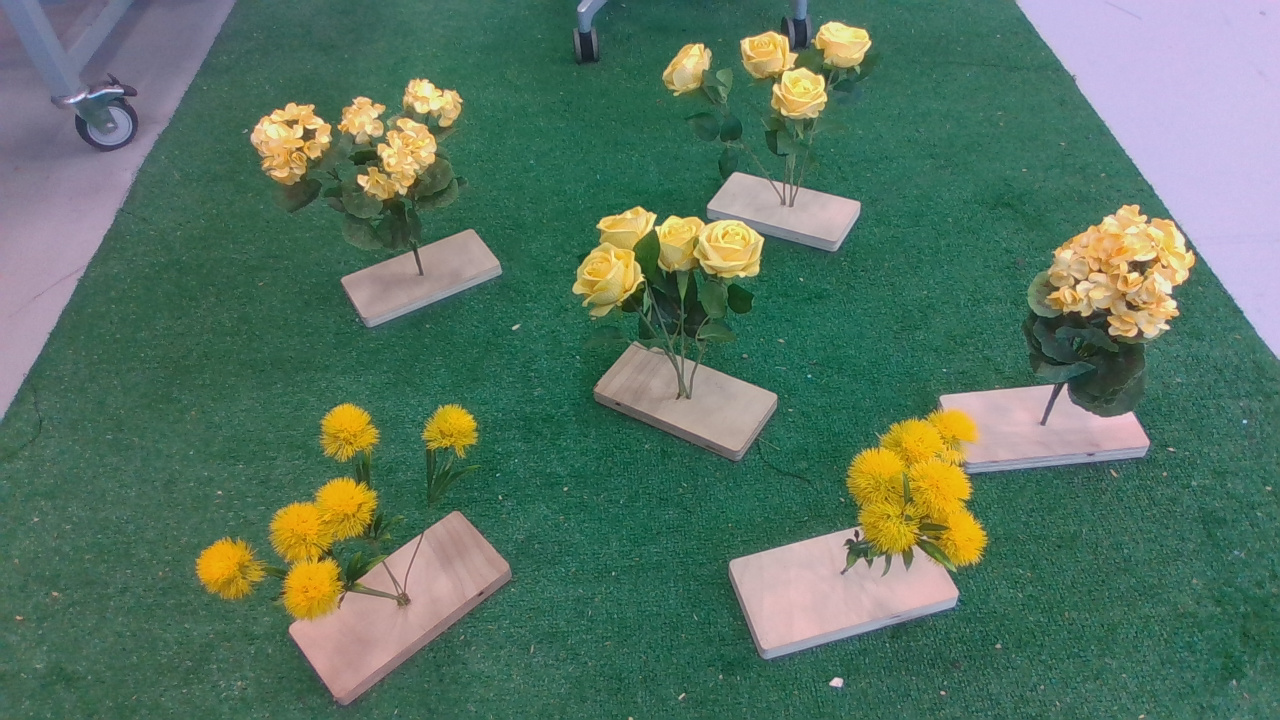dandelion: (193, 402, 501, 632), (834, 411, 998, 586)
geranium: (250, 74, 475, 262), (1020, 196, 1203, 426)
rose: (567, 205, 774, 367), (662, 24, 881, 169)
